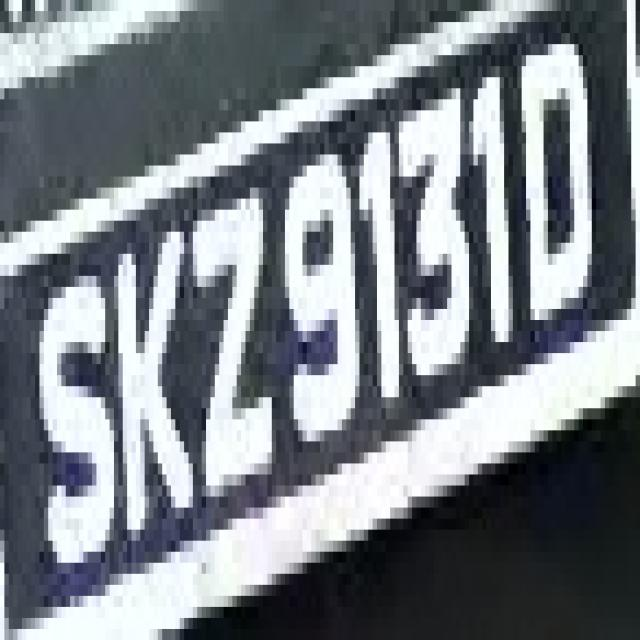1: (351, 100, 412, 463), (464, 55, 522, 408)
3: (399, 67, 473, 420)
9: (272, 110, 359, 474)
D: (517, 22, 592, 364)
K: (114, 198, 193, 530)
S: (31, 243, 118, 563)
Z: (180, 188, 285, 497)
